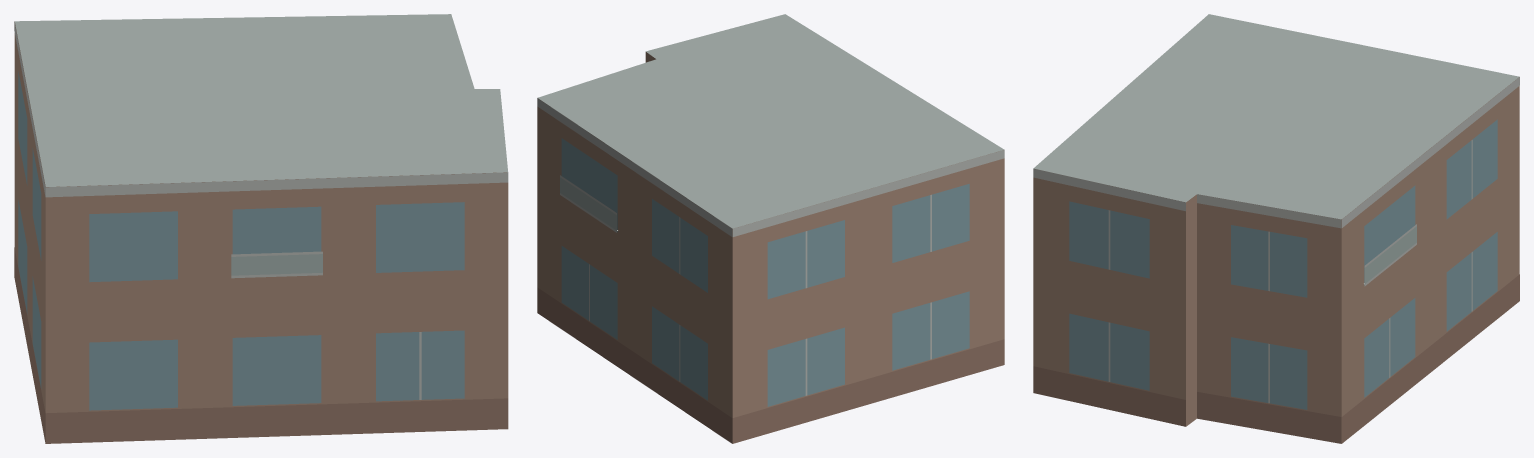
File: survey-upis-32974959.glb
3 renders of one model, left to right at view 1: azimuth 30°, elevation 25°; view 2: azimuth 150°, elevation 25°; view 3: azimuth 270°, elevation 25°, orthographic. The views are drawn at different scales.
Visible parts, largest first — view 1: survey-upis-32974959.tmp; view 2: survey-upis-32974959.tmp; view 3: survey-upis-32974959.tmp.
Boxes of the visible parts, <box> form: survey-upis-32974959.tmp: <box>14,14,508,443</box>; survey-upis-32974959.tmp: <box>537,14,1004,443</box>; survey-upis-32974959.tmp: <box>1033,14,1519,443</box>.
Size of the model in its own units: 11.98 by 6.1 by 11.99.
